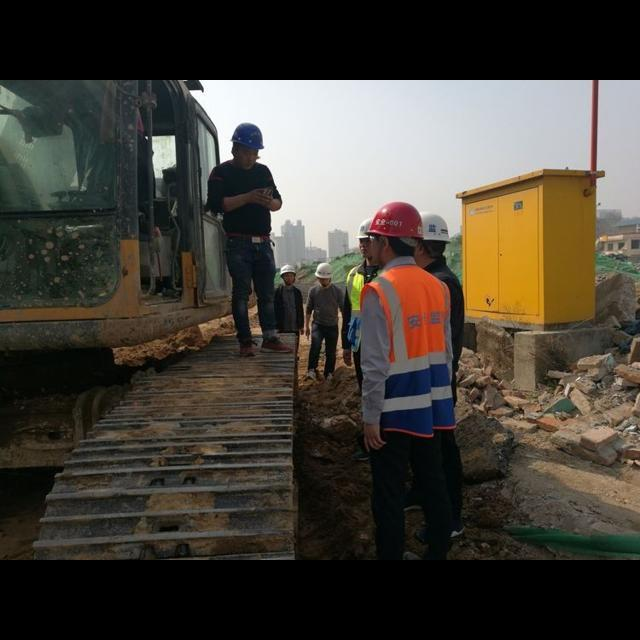helmet: (406, 198, 467, 258), (364, 196, 428, 246), (226, 116, 269, 160), (306, 255, 339, 288), (274, 258, 308, 288), (354, 210, 380, 247)
safety_vest: (344, 252, 479, 446), (344, 258, 376, 360)
